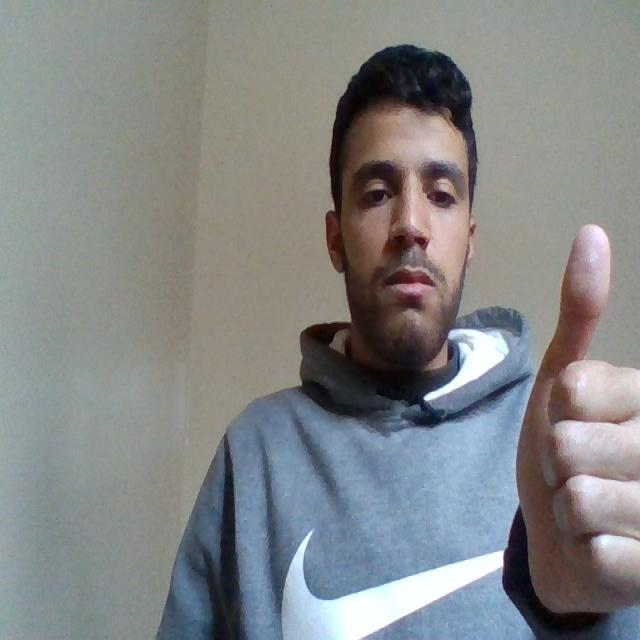Yes: (509, 218, 639, 622)
